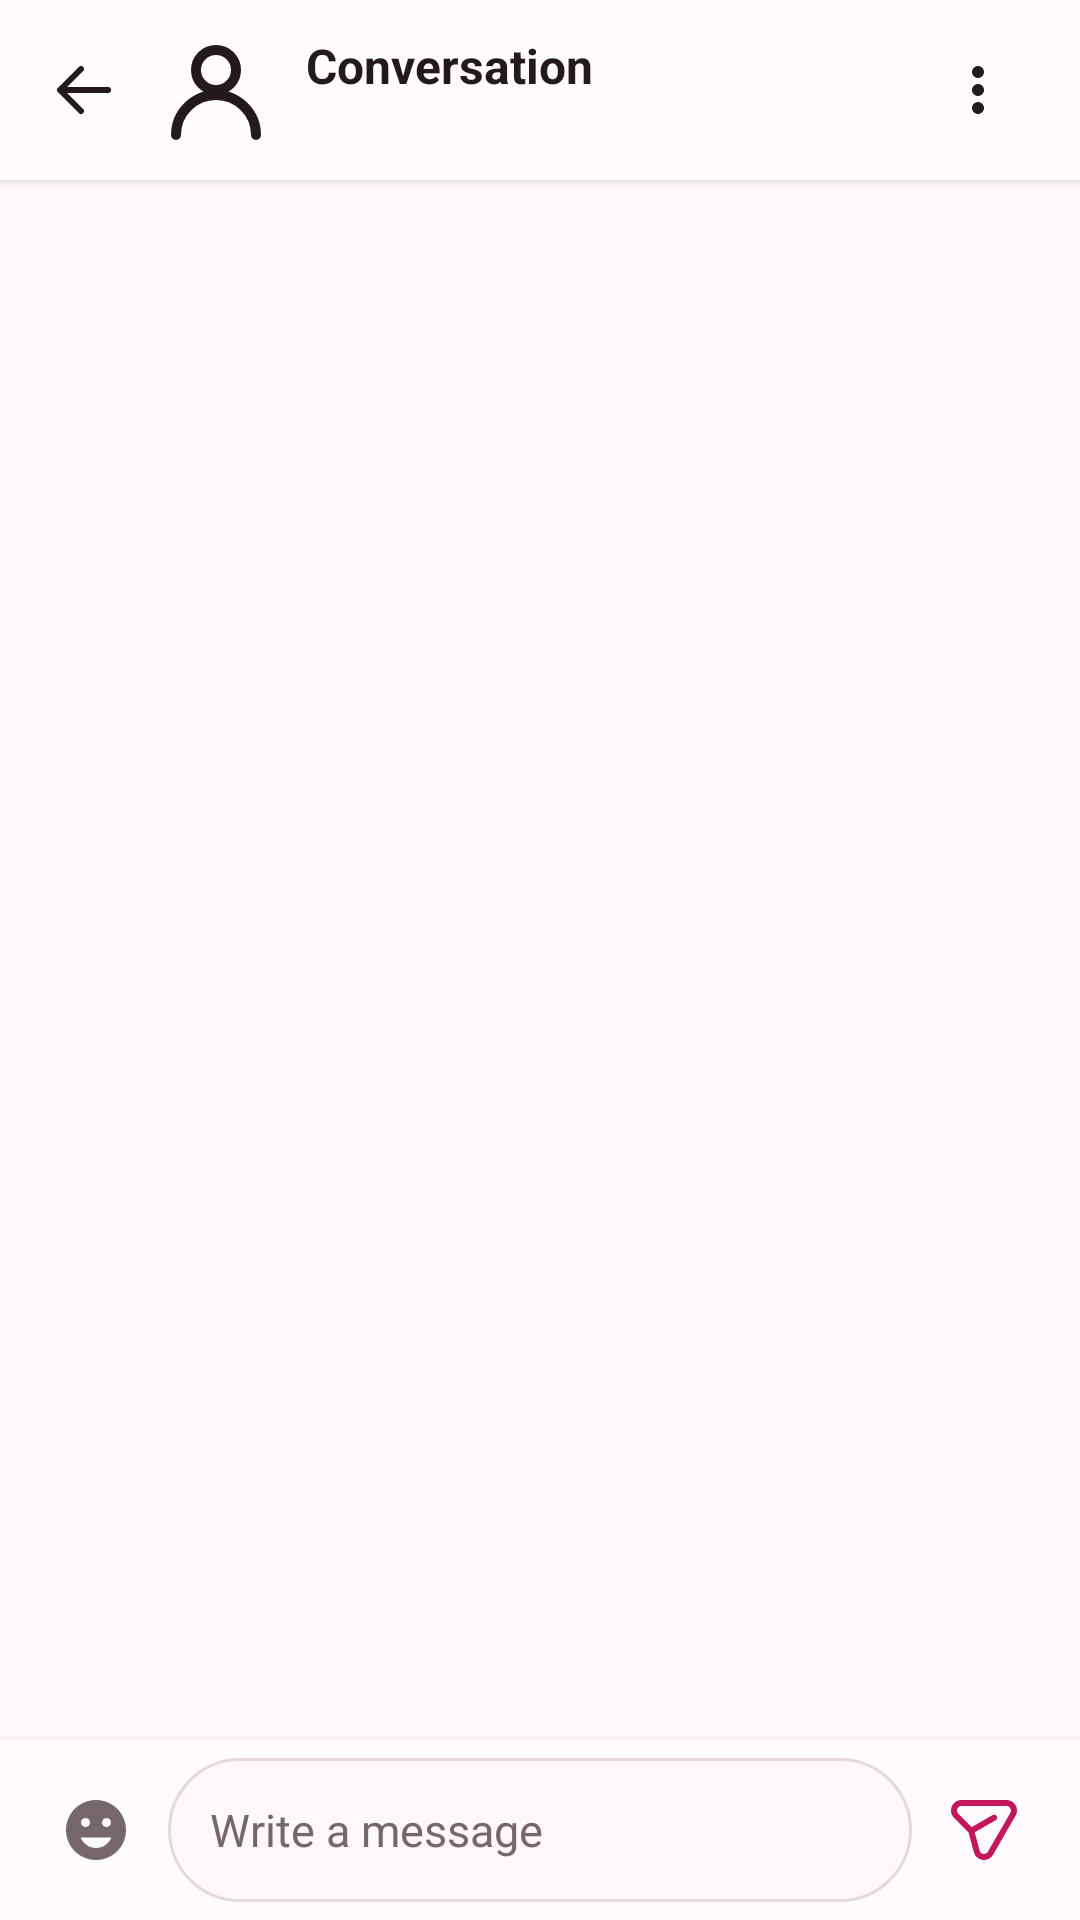

Point at icon controls on the screen. Image size 1080px×1920px, points as (x,y).
Back: (84,90)
Insert emoji: (96,1830)
More options: (978,90)
Profile picture: (216,92)
Send message: (984,1830)
